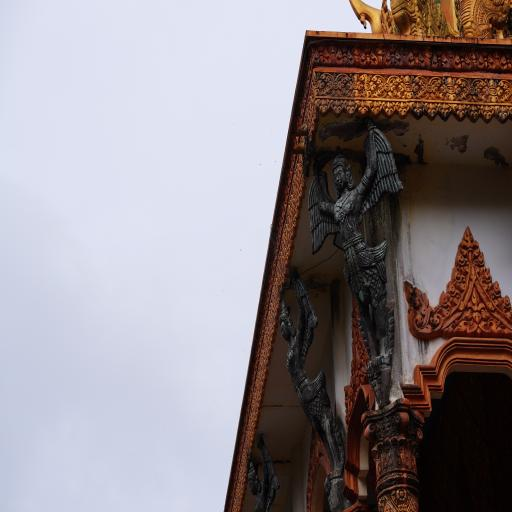la: (405, 278, 433, 333), (336, 72, 387, 96), (387, 74, 429, 100), (430, 76, 472, 102), (471, 77, 512, 103), (315, 72, 336, 96), (460, 225, 479, 249), (436, 290, 450, 316), (452, 264, 466, 287), (499, 291, 512, 315), (455, 249, 469, 271), (410, 99, 425, 119), (446, 279, 458, 303), (489, 278, 501, 302), (452, 101, 467, 120), (438, 102, 452, 122), (424, 100, 438, 120), (467, 104, 481, 122), (396, 102, 410, 120), (481, 105, 496, 121), (315, 98, 330, 114), (368, 100, 383, 115), (495, 105, 509, 121), (330, 100, 344, 116), (382, 100, 394, 118), (357, 100, 369, 118), (344, 100, 358, 115), (482, 265, 492, 285), (475, 250, 485, 267)
than: (308, 128, 424, 408), (275, 276, 350, 477), (240, 436, 280, 512)
